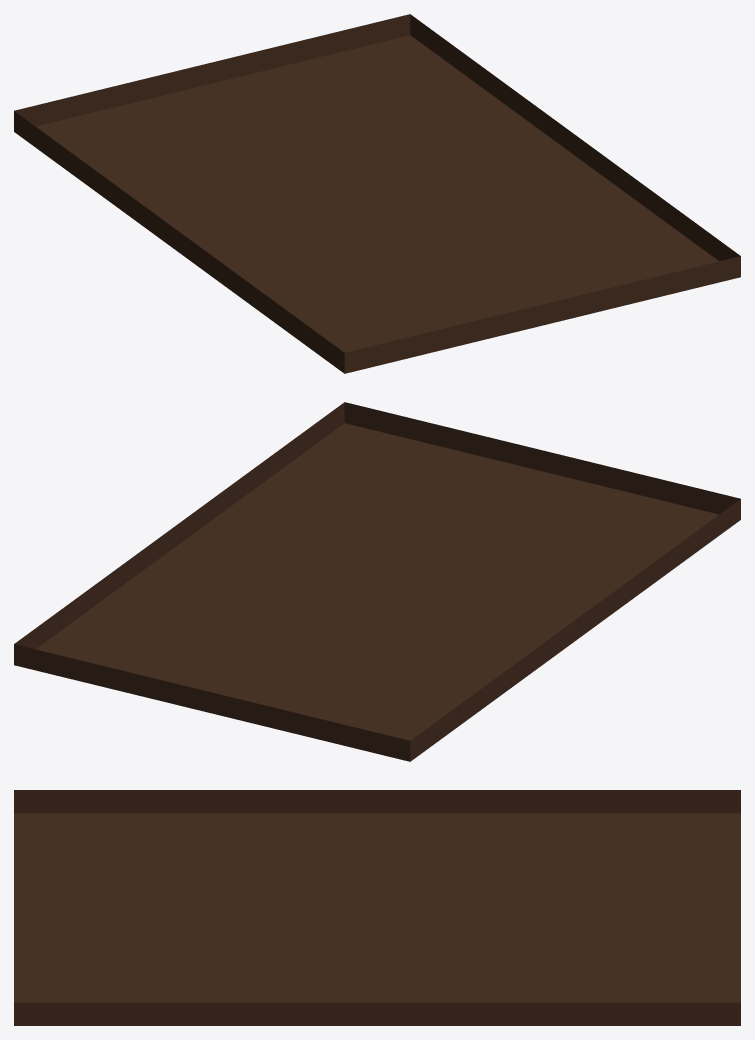
File: KRESLSARFOTO.glb
3 views of the same model, one above another, from view 1: azimuth 30°, elevation 25°; view 2: azimuth 150°, elevation 25°; view 3: azimuth 270°, elevation 25° (orthographic). The views are drawn at different scales.
Parts seen in each view (by area): view 1: NurbsPath.017; view 2: NurbsPath.017; view 3: NurbsPath.017.
Part boxes in pixels (x1,y1,x2,y2): NurbsPath.017: [14, 14, 740, 373]; NurbsPath.017: [14, 402, 740, 761]; NurbsPath.017: [14, 790, 740, 1025].
Size of the model in its own units: 0.3629 by 0.0184 by 0.5246.
